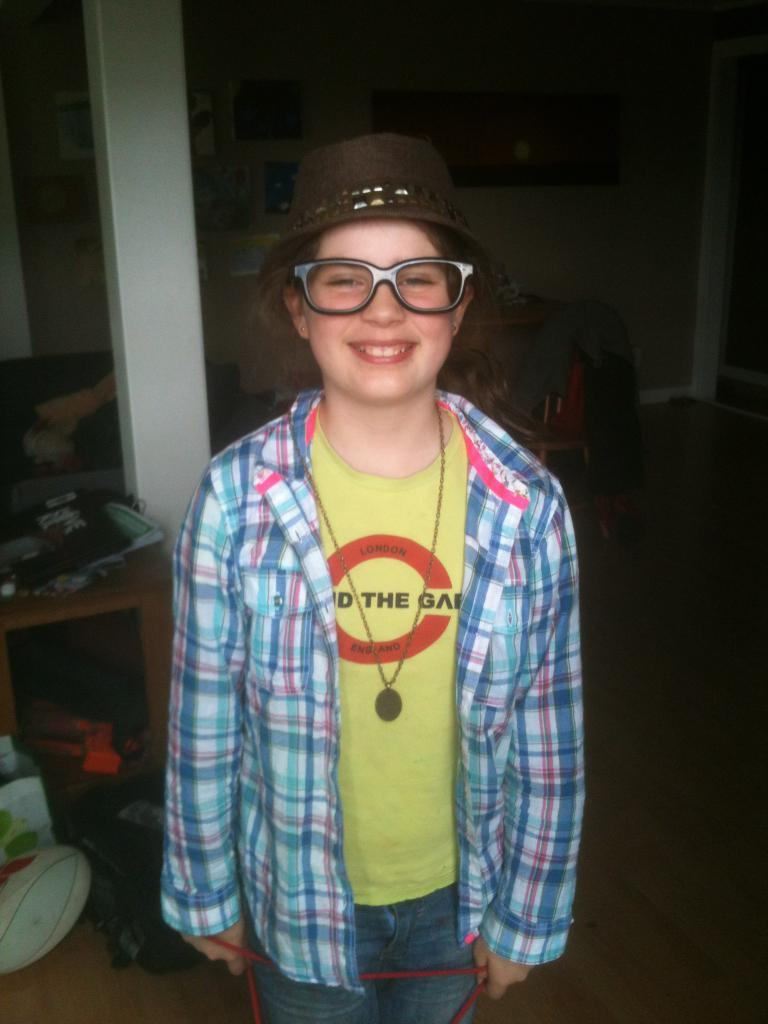Hat: (248, 130, 512, 303)
